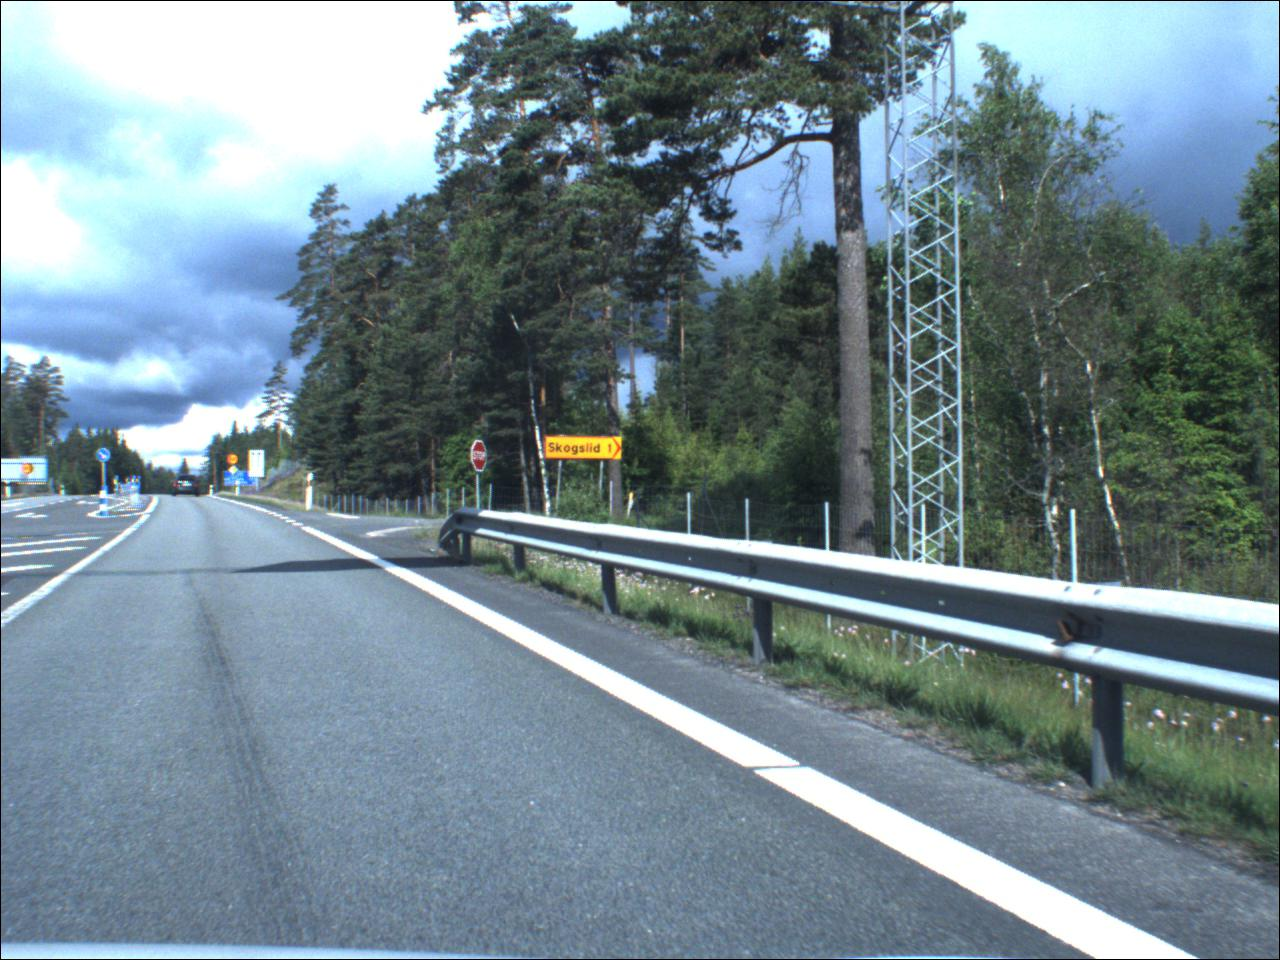100_SIGN: (229, 455, 240, 468), (23, 465, 36, 476)
PASS_RIGHT_SIDE: (98, 449, 114, 464)
PRIORITY_ROAD: (231, 468, 241, 477)
STOP: (472, 441, 490, 475)
